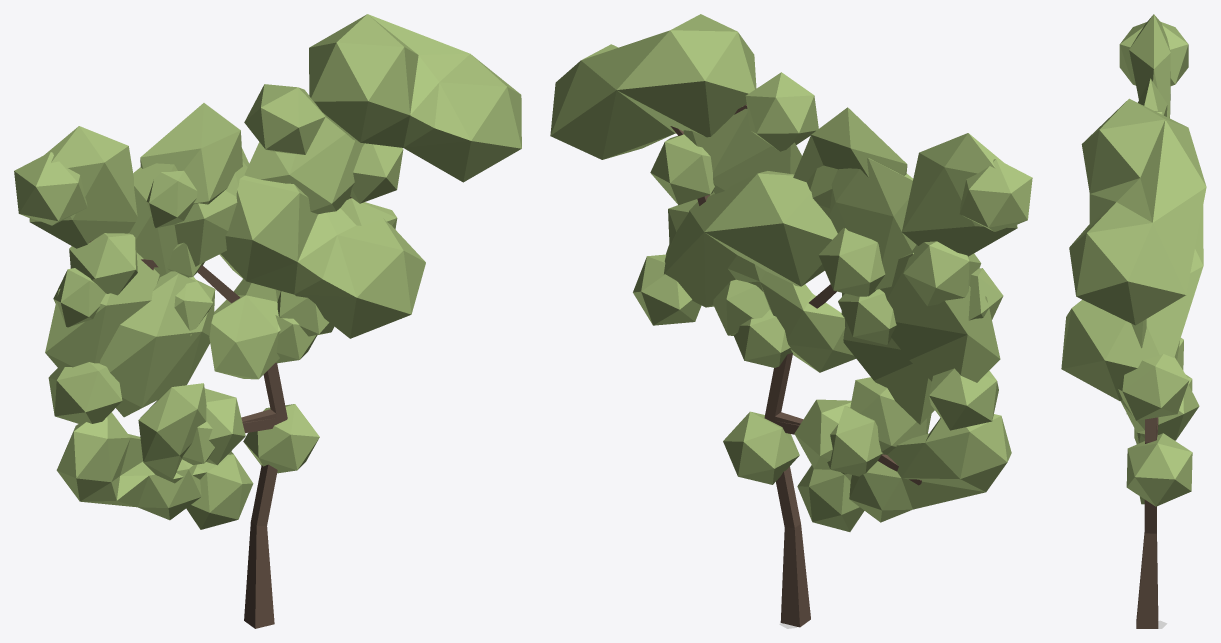
File: IvyPieces.fbx
3 renders of one model, left to right at view 1: azimuth 30°, elevation 25°; view 2: azimuth 150°, elevation 25°; view 3: azimuth 270°, elevation 25°, orthographic. The views are drawn at different scales.
Visible parts, largest first — view 1: Ivy Stem 2, Ivy Stem 1; view 2: Ivy Stem 2, Ivy Stem 1; view 3: Ivy Stem 2, Ivy Stem 1.
Boxes of the visible parts, bbox=[...] form: Ivy Stem 2: bbox=[14, 14, 521, 529]; Ivy Stem 1: bbox=[29, 103, 425, 628]; Ivy Stem 2: bbox=[550, 14, 1032, 531]; Ivy Stem 1: bbox=[664, 107, 1017, 627]; Ivy Stem 2: bbox=[1069, 22, 1206, 532]; Ivy Stem 1: bbox=[1061, 14, 1203, 628].
Size of the model in its own units: 259 by 290 by 67.96.
